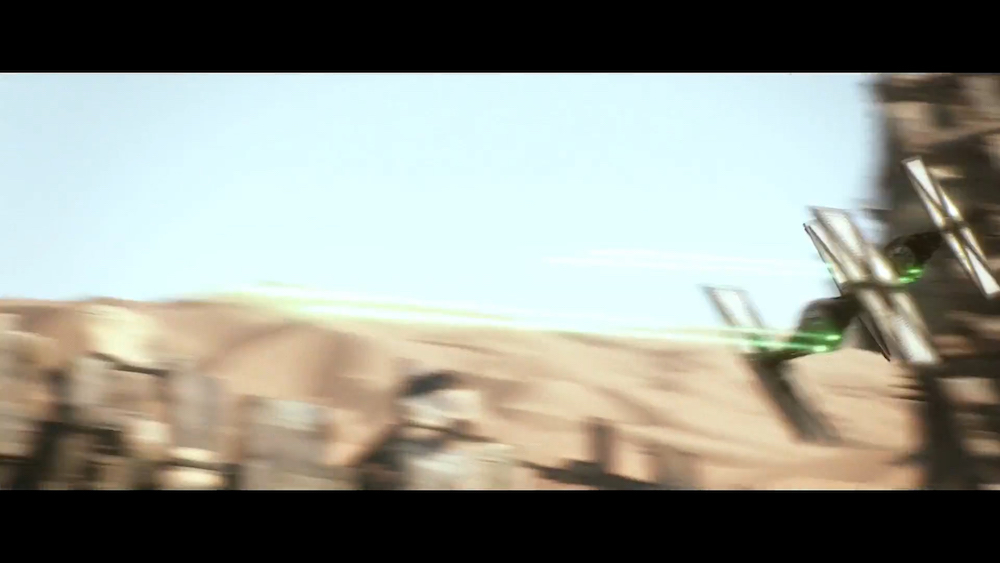Tie Fighter: (702, 209, 941, 446), (805, 154, 1000, 364)
